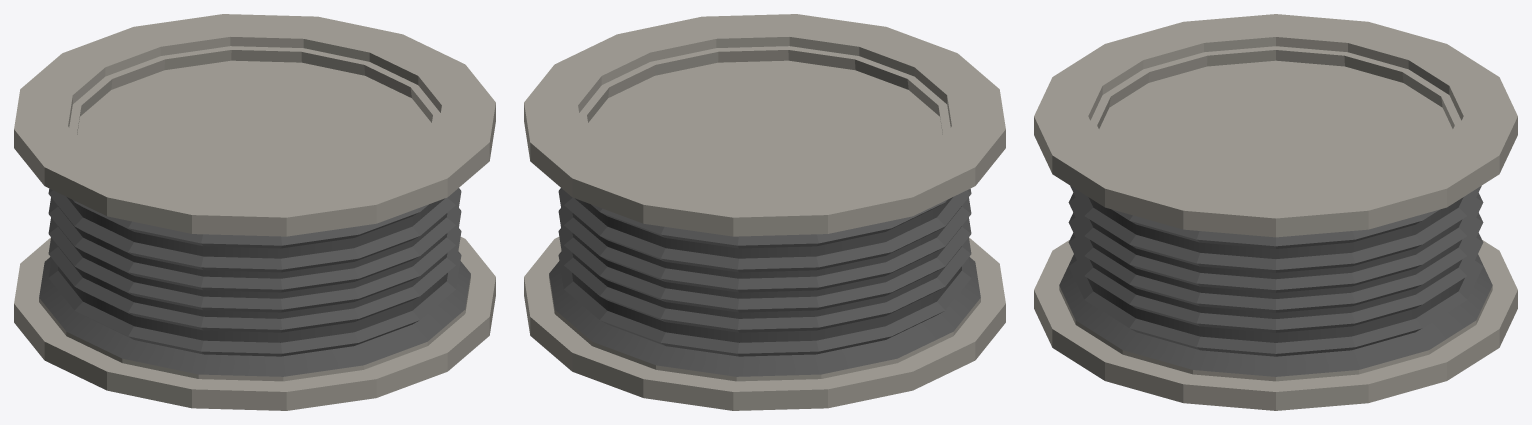
Rendered from cabledrum_02.fbx.
3 renders of one model, left to right at view 1: azimuth 30°, elevation 25°; view 2: azimuth 150°, elevation 25°; view 3: azimuth 270°, elevation 25°, orthographic.
Visible parts, largest first — view 1: cabledrum_02; view 2: cabledrum_02; view 3: cabledrum_02.
Part boxes in pixels (x1,y1,x2,y2): cabledrum_02: (14, 14, 495, 410); cabledrum_02: (524, 14, 1005, 410); cabledrum_02: (1034, 14, 1517, 410).
Size of the model in its own units: 95.99 by 42.12 by 95.99.
